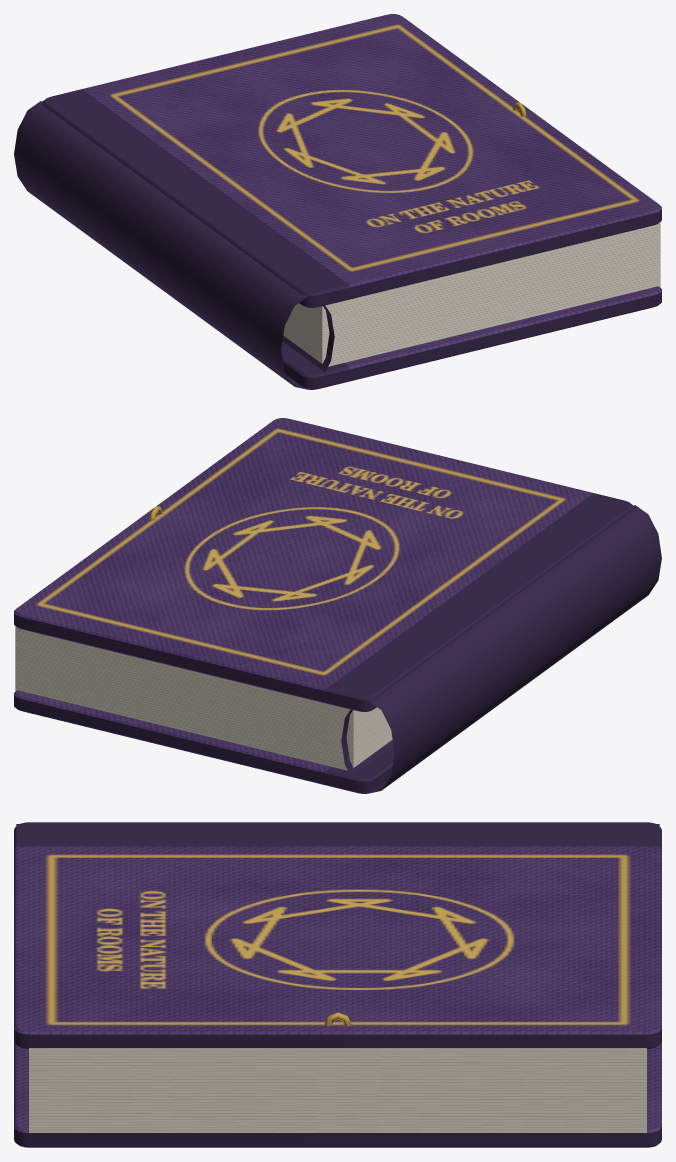
The model's file is oddbook.obj.
3 renders of one model, top to bottom at view 1: azimuth 30°, elevation 25°; view 2: azimuth 150°, elevation 25°; view 3: azimuth 270°, elevation 25°, orthographic. The views are drawn at different scales.
Visible parts, largest first — view 1: oddbook_0_surface; view 2: oddbook_0_surface; view 3: oddbook_0_surface.
Boxes of the visible parts, box(x1,y1,x2,y2) form: oddbook_0_surface: box(14, 14, 661, 389); oddbook_0_surface: box(14, 418, 661, 793); oddbook_0_surface: box(14, 822, 661, 1147).
Bounding box in the file's own units: 0.216 × 0.0576 × 0.262.
2 materials, 2 textured.
